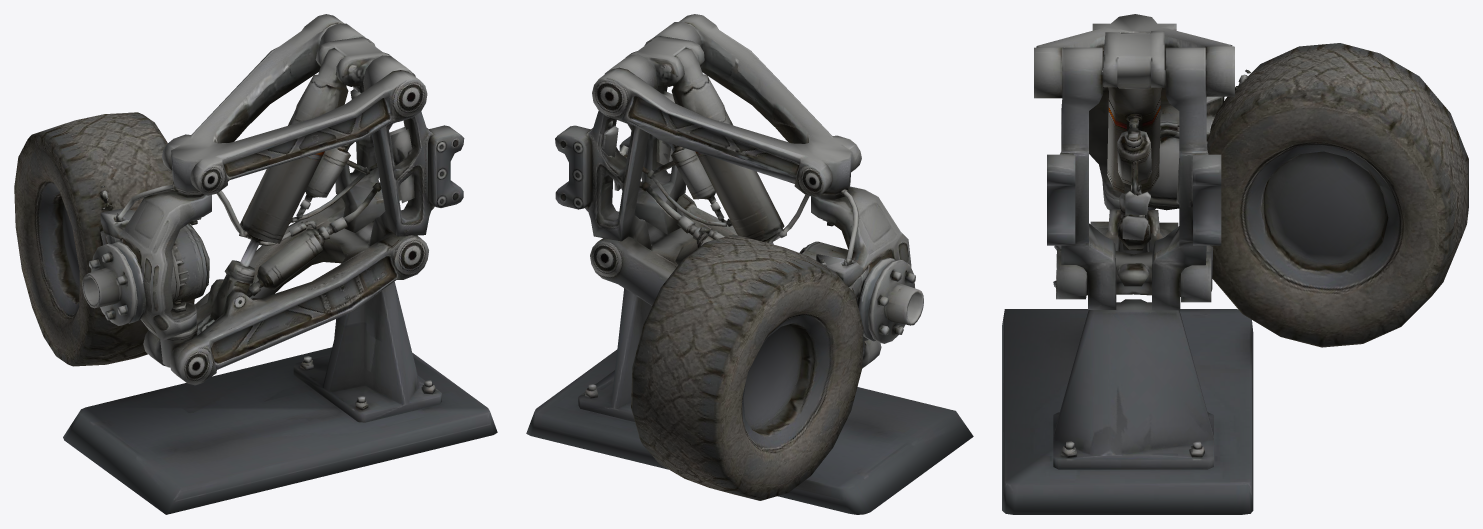
3 renders of one model, left to right at view 1: azimuth 30°, elevation 25°; view 2: azimuth 150°, elevation 25°; view 3: azimuth 270°, elevation 25°, orthographic. The views are drawn at different scales.
Visible parts, largest first — view 1: tripo_node_16d36b09-3e08-4e94-bd55-fd987e6cfcba; view 2: tripo_node_16d36b09-3e08-4e94-bd55-fd987e6cfcba; view 3: tripo_node_16d36b09-3e08-4e94-bd55-fd987e6cfcba.
Boxes of the visible parts, <box> form: tripo_node_16d36b09-3e08-4e94-bd55-fd987e6cfcba: <box>14,14,497,514</box>; tripo_node_16d36b09-3e08-4e94-bd55-fd987e6cfcba: <box>526,14,973,514</box>; tripo_node_16d36b09-3e08-4e94-bd55-fd987e6cfcba: <box>1002,14,1468,514</box>.
Bounding box in the file's own units: 0.9824 × 0.998 × 0.998.
1 material, 1 textured.
